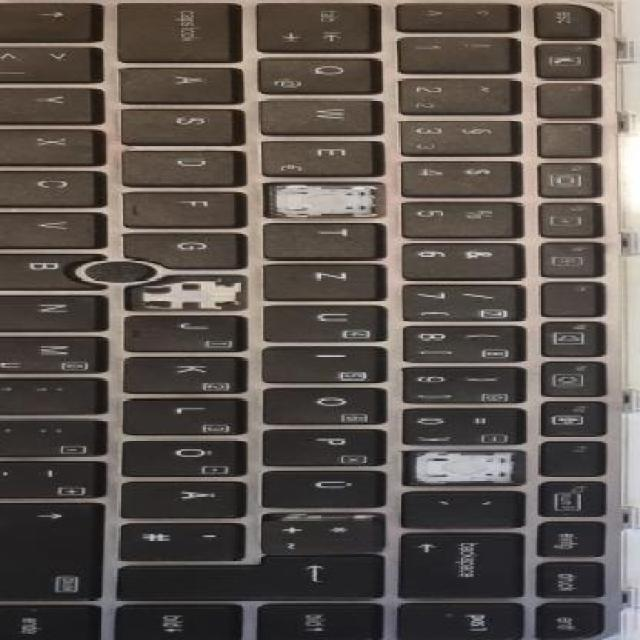Keyboard problems: (126, 275, 246, 309), (266, 185, 383, 217), (406, 451, 523, 483)
